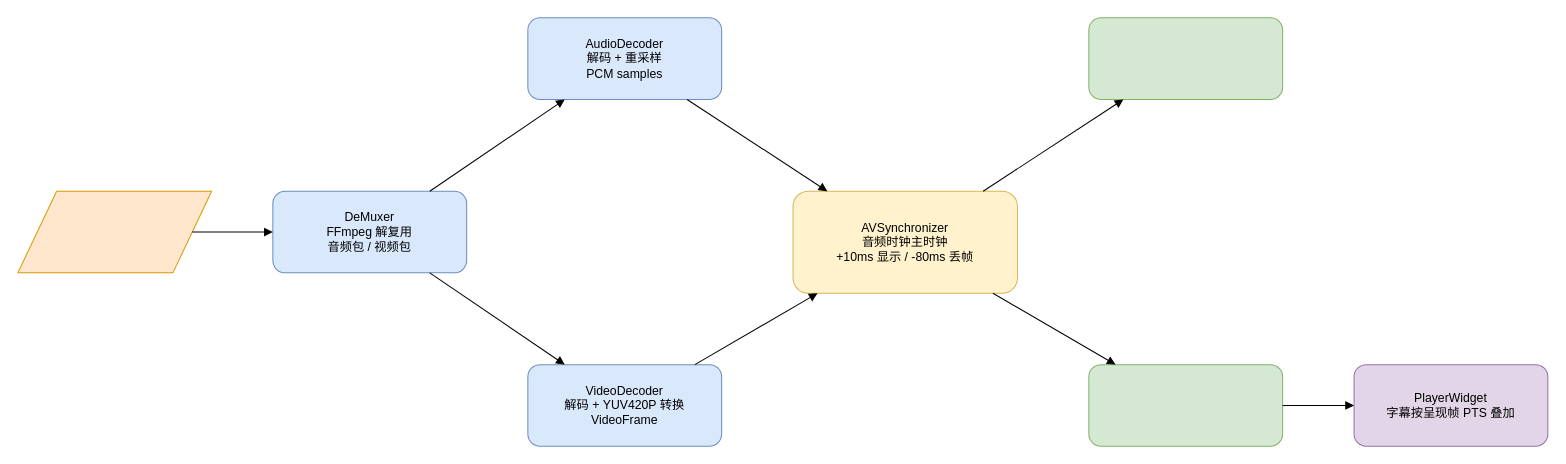
Image size: 1566x464. Some labels were removed from this diagram. The centre of each missing label's shape, as x and y in pixels:
AudioRender QAudioSink: [1185,58]
VideoDisplay Y/U/V 纹理上传 GLSL YUV→RGB + 滤镜: [1185,405]
输入媒体 本地文件 / HTTP / RTSP / RTMP: [114,231]
